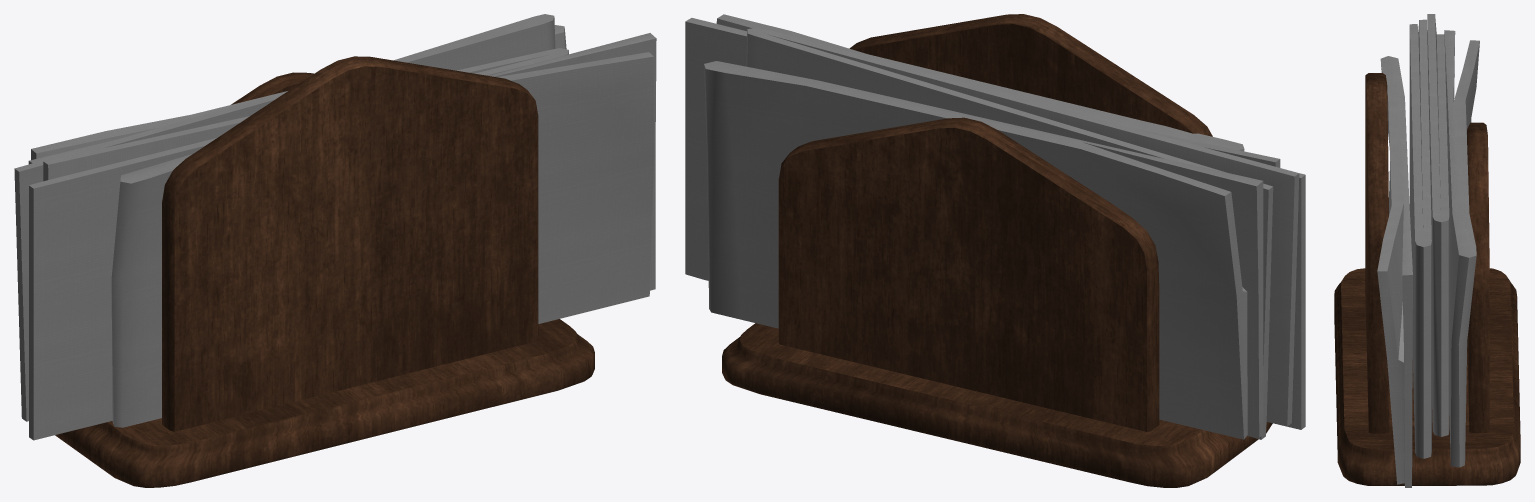
Rendered from Napkins_adapted.glb.
3 renders of one model, left to right at view 1: azimuth 30°, elevation 25°; view 2: azimuth 150°, elevation 25°; view 3: azimuth 270°, elevation 25°, orthographic. The views are drawn at different scales.
Bounding box in the file's own units: 0.3082 × 0.1692 × 0.0951.
1 material, 1 textured.
